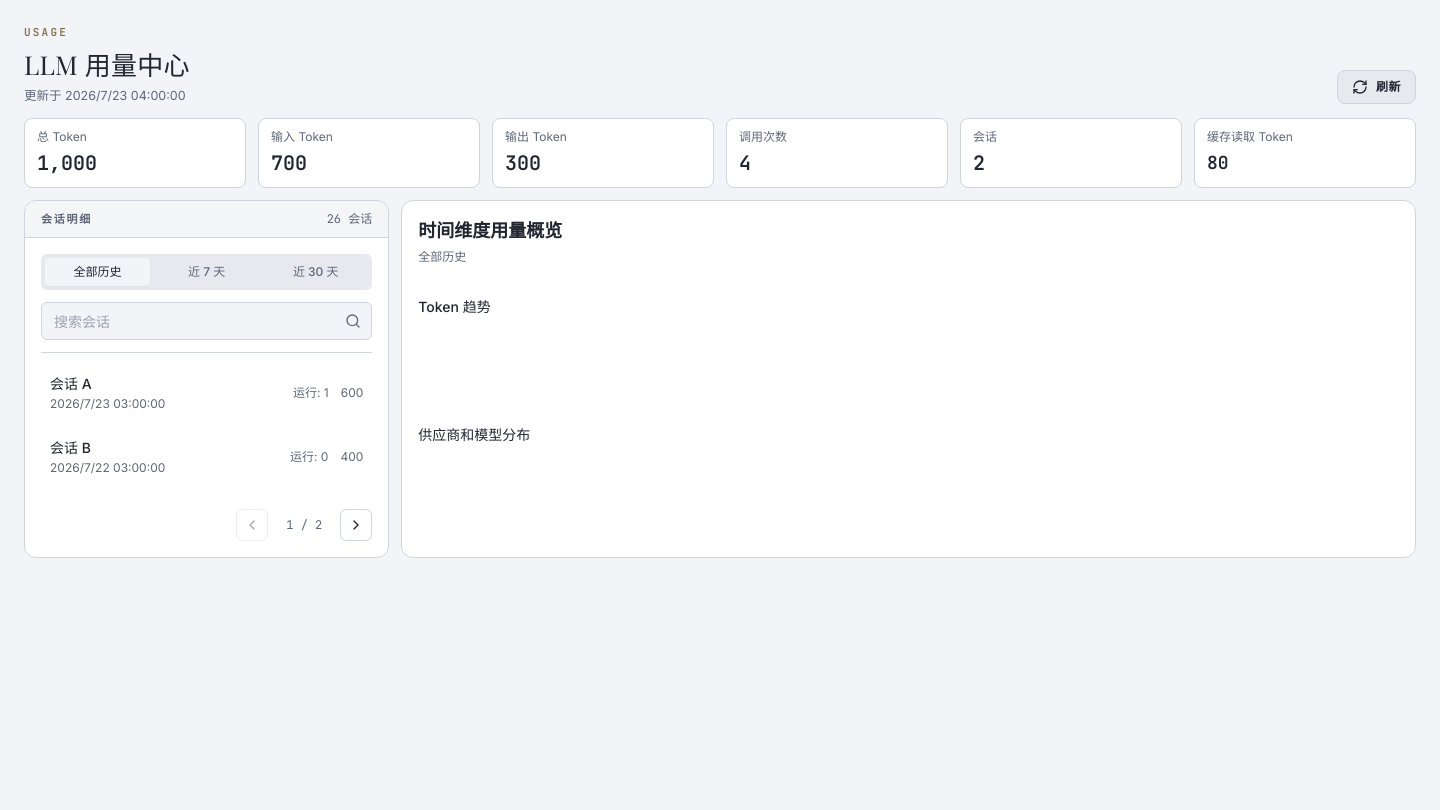
Scenario: Usage › keeps pagination on the snapshot page when a replacement page fails
Expected: the text "1,000" is shown, [37,150,97,176]
Click the button named "下一页": (356, 525) [340,509,372,541]
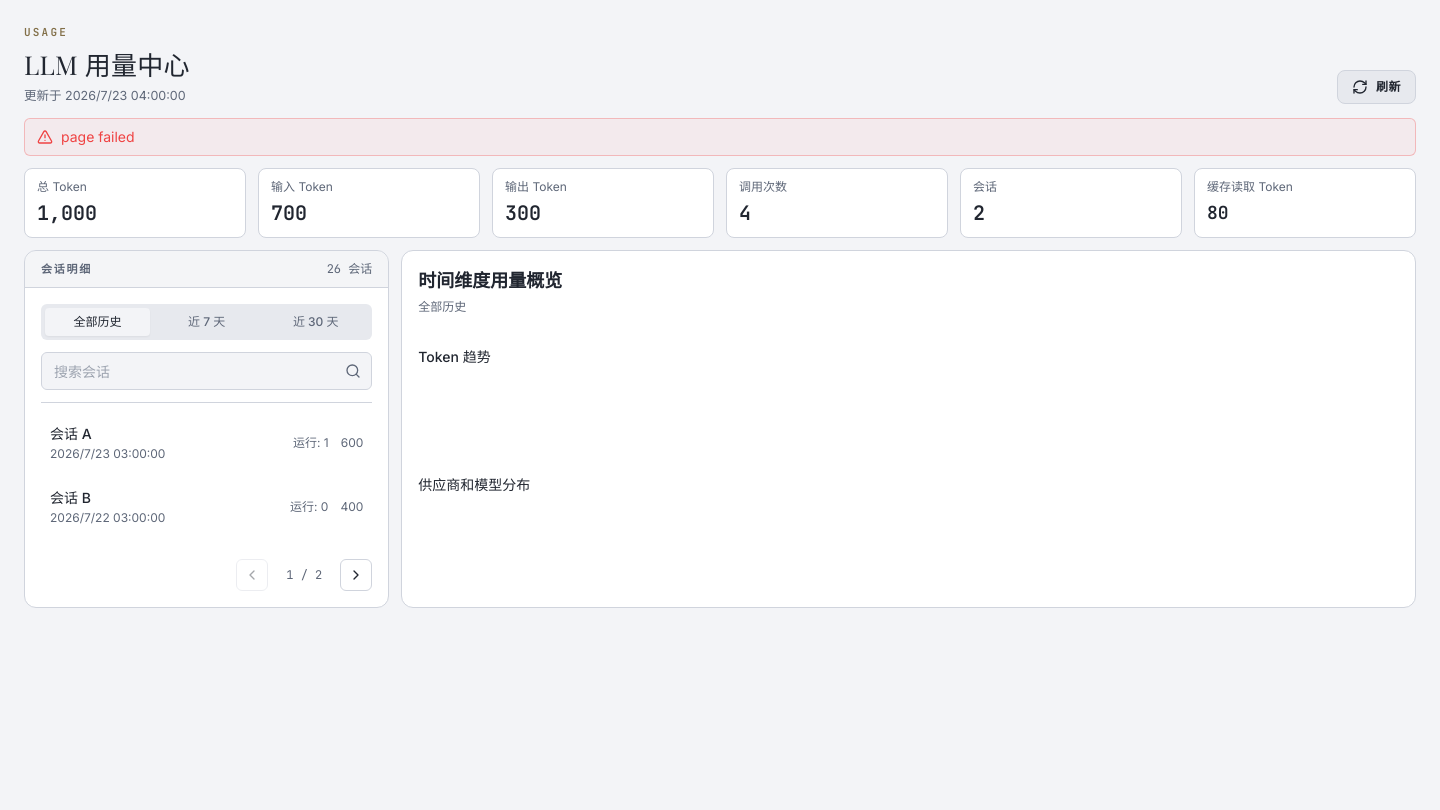
Expected: the text "1 / 2" is shown, [286,567,322,583]
Now the text "page failed" is shown, box [61,128,135,145]
